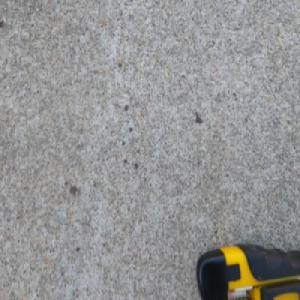Cutter: (195, 242, 300, 300)
